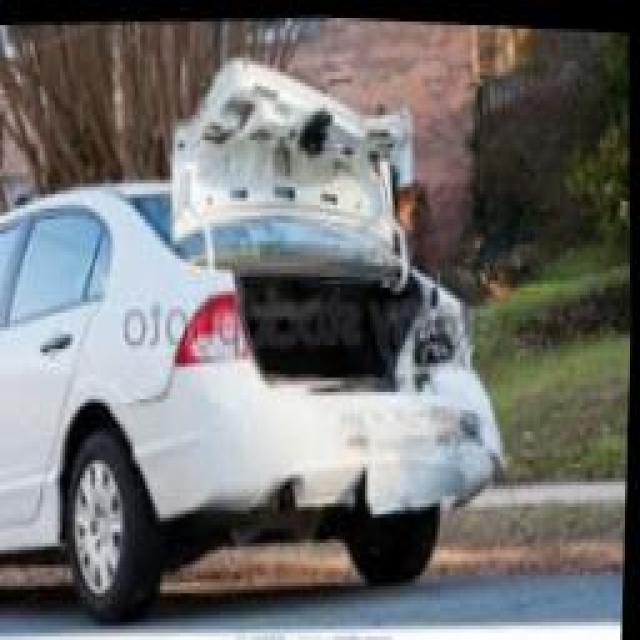Bumper: (318, 374, 513, 506)
Dickey: (173, 49, 422, 384)
Light: (409, 279, 475, 362)
